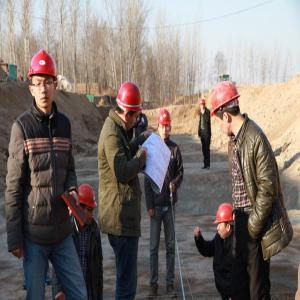red: (27, 49, 60, 110), (210, 81, 240, 139), (116, 80, 142, 131), (77, 183, 99, 227), (214, 202, 236, 240), (158, 109, 172, 141), (199, 99, 207, 112)
